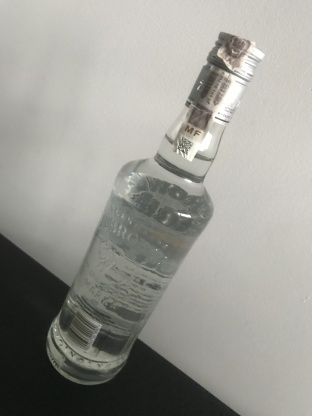nakretka: (183, 29, 266, 127)
